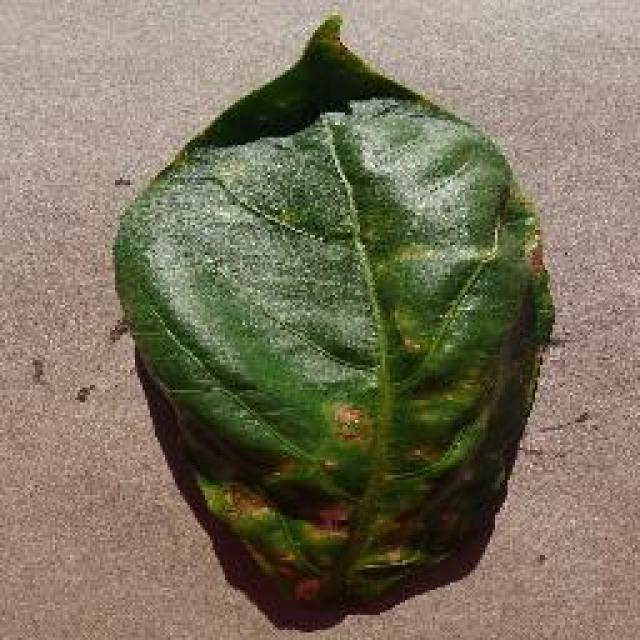Chilli_Bacterial_Spot: (108, 12, 558, 612), (225, 483, 273, 525), (328, 400, 370, 445), (312, 497, 352, 535), (307, 10, 345, 48), (287, 572, 325, 608)
